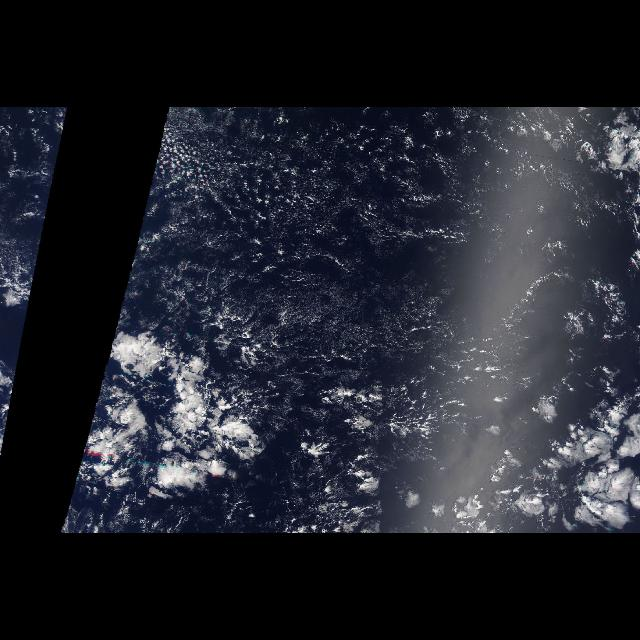Sugar: (181, 116, 604, 344)
